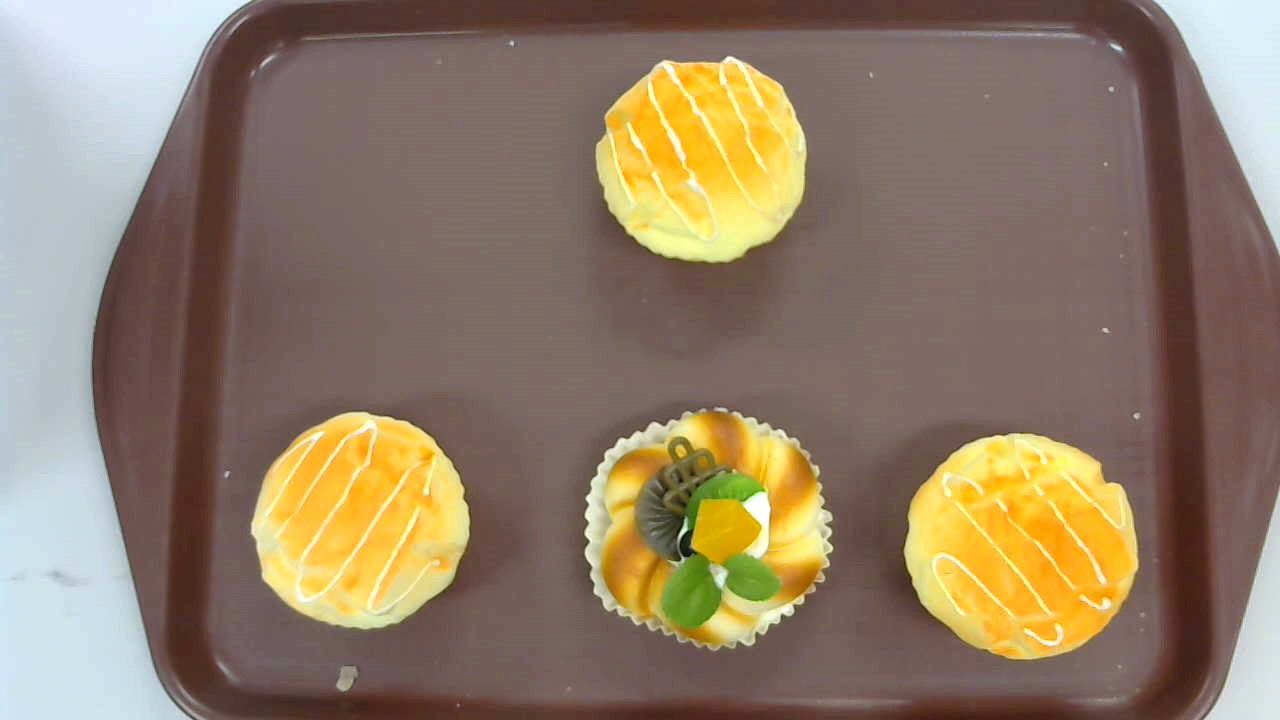cupcake: (903, 430, 1140, 660), (250, 411, 472, 630), (596, 53, 810, 265)
fruit tart: (583, 405, 834, 652)
